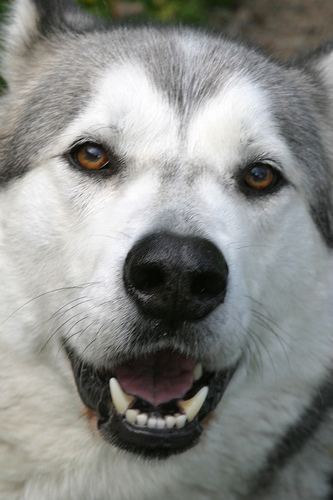dog: (0, 0, 331, 498)
